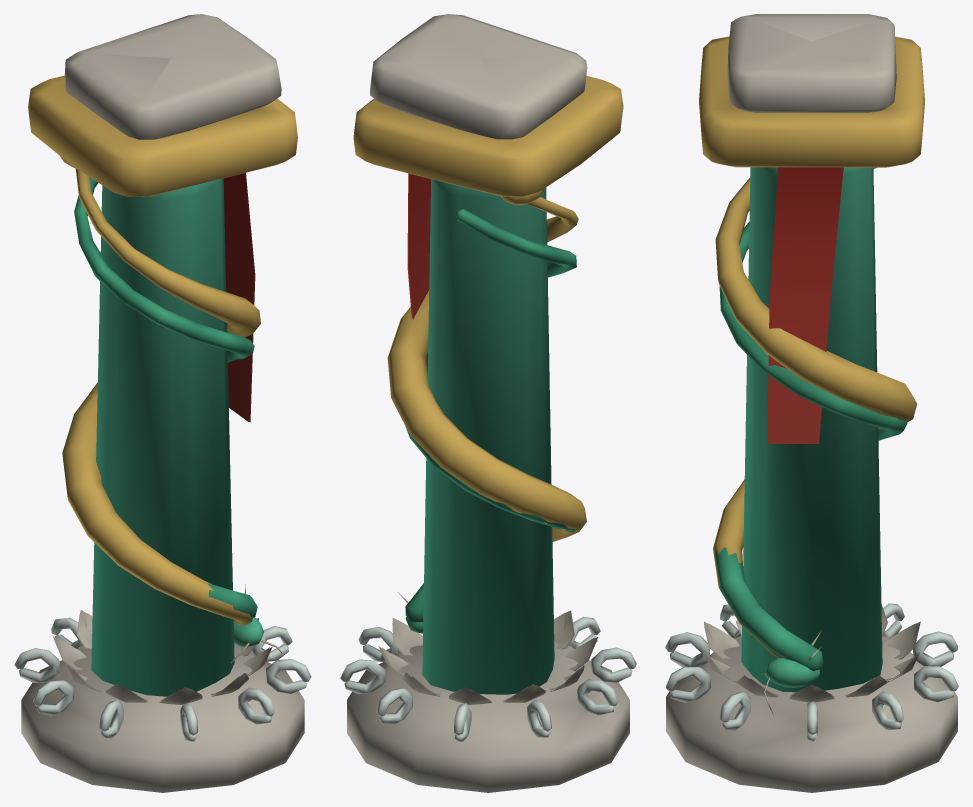
Rendered from jadepillar.glb.
The picture shows the model from 3 angles, left to right: view 1: azimuth 30°, elevation 25°; view 2: azimuth 150°, elevation 25°; view 3: azimuth 270°, elevation 25°; orthographic projection. The views are drawn at different scales.
Parts seen in each view (by area): view 1: jadepillar; view 2: jadepillar; view 3: jadepillar.
Boxes of the visible parts, x1,y1,x2,y2 form: jadepillar: (14,14,311,792); jadepillar: (340,14,636,792); jadepillar: (665,14,958,792).
Bounding box in the file's own units: 1.31 × 3.27 × 1.25.
